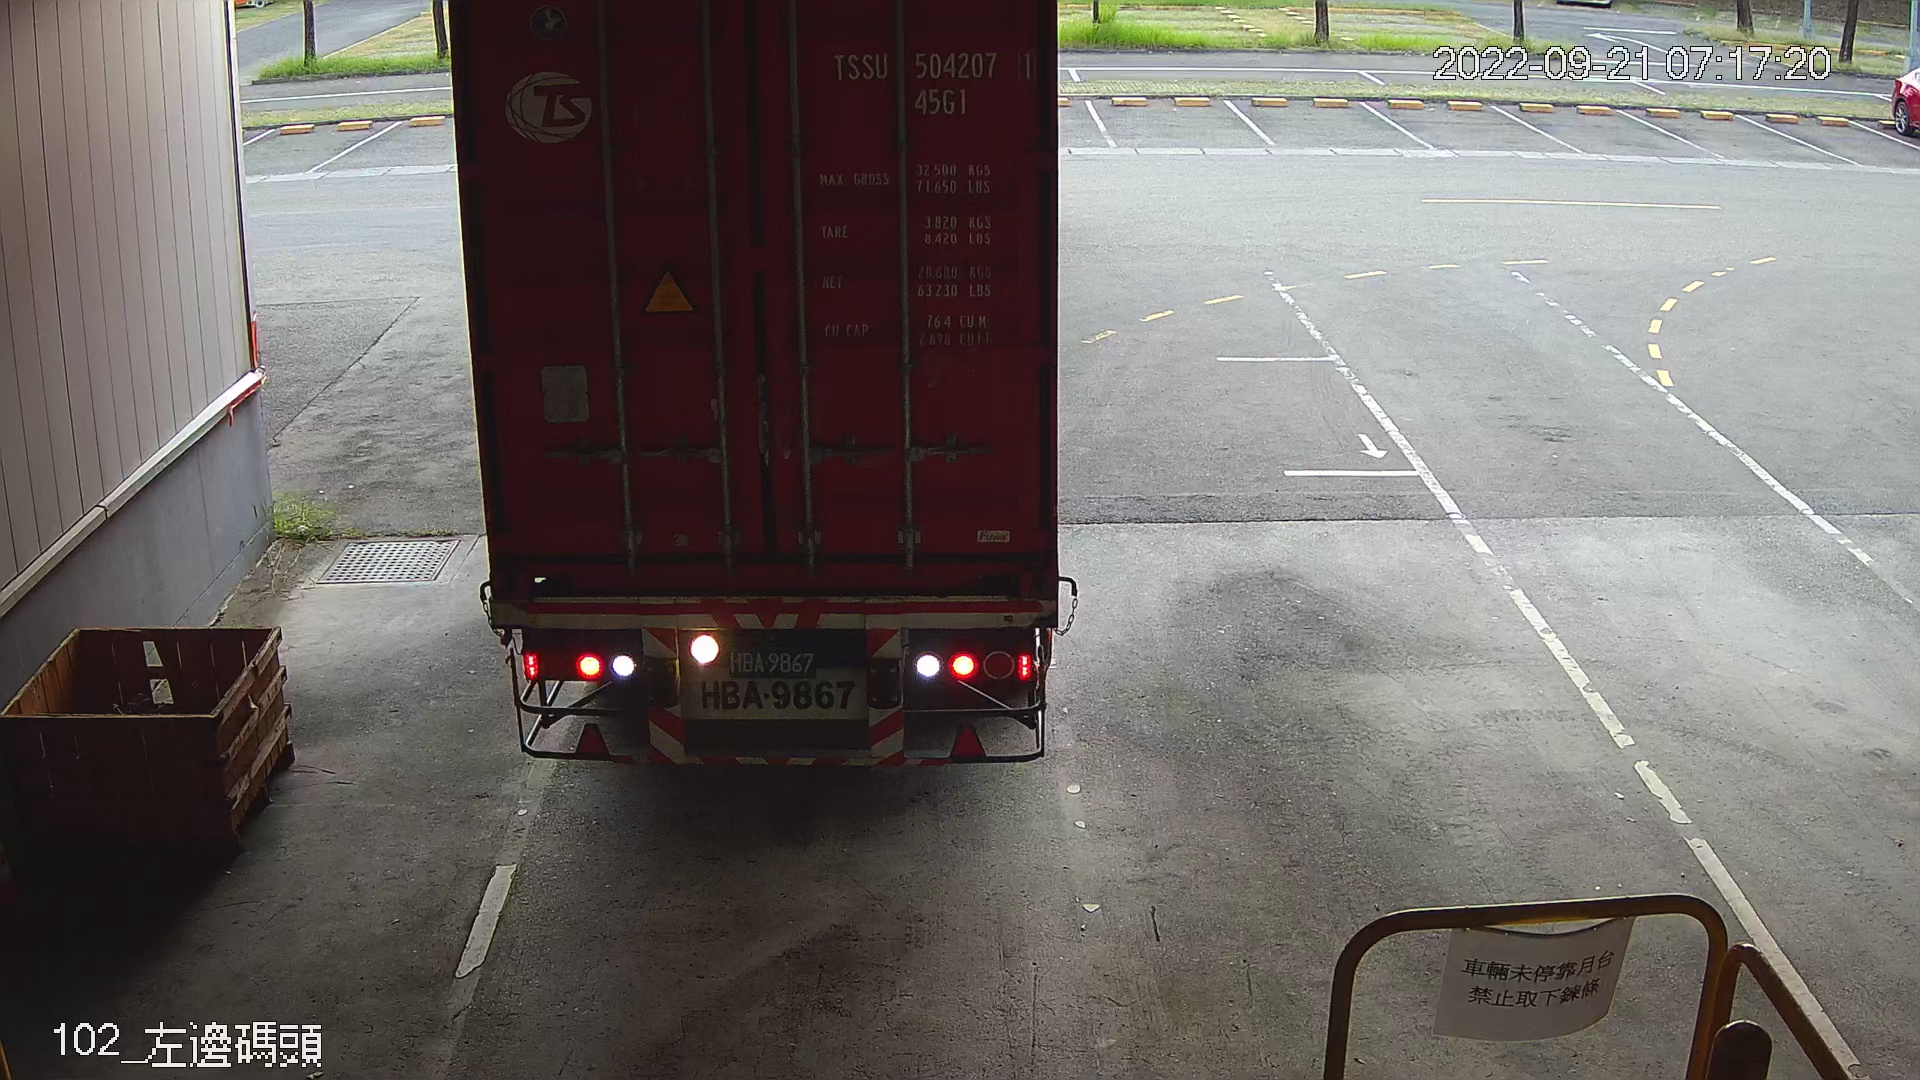container: (820, 40, 1044, 123)
